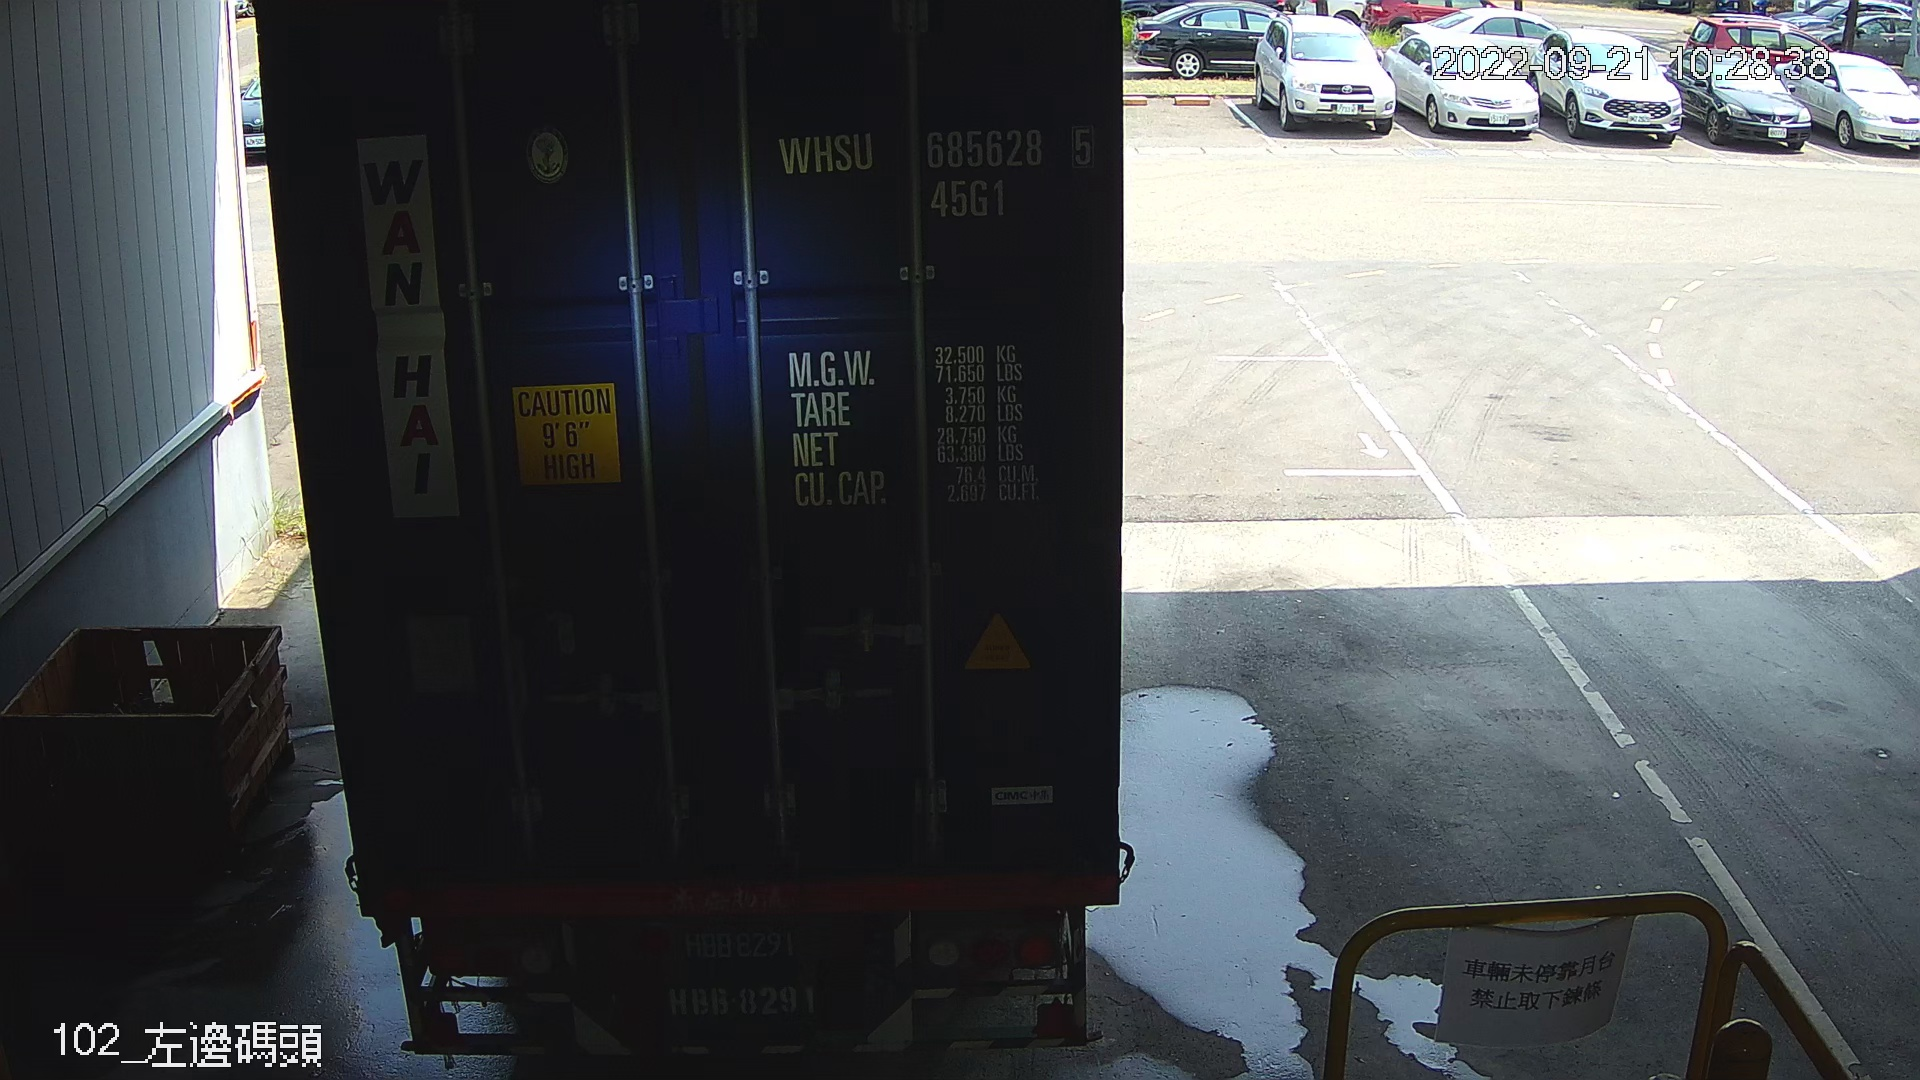container: (764, 117, 1106, 229)
